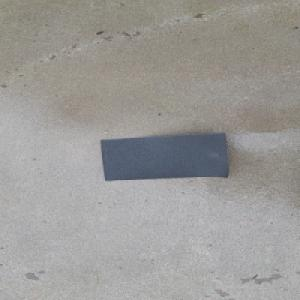PaintChip: (100, 133, 229, 182)
